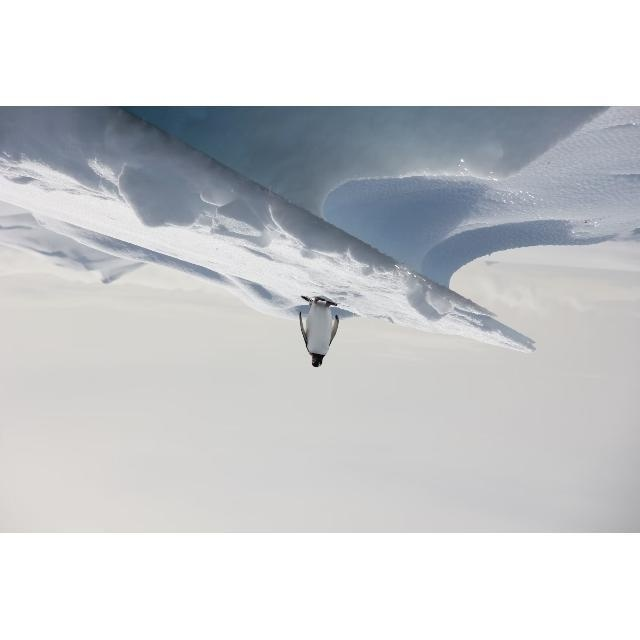penguin: (297, 292, 340, 368)
